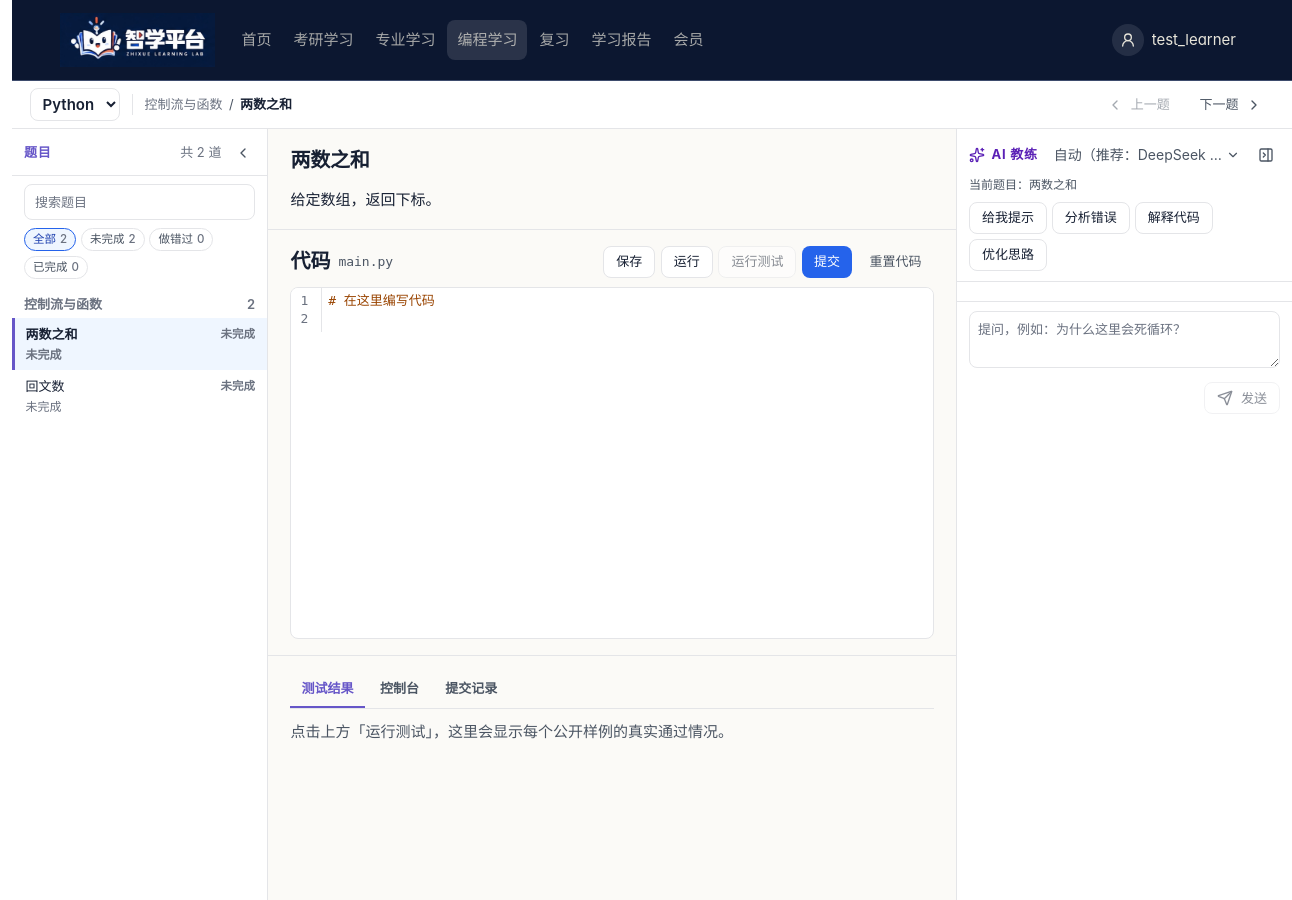
Test case: the AI 教练 › recovers after a failed request: the input works again and the question can be retried
This screenshot has width=1292, height=900.
Click the button "给我提示": click(1008, 218) [969,202,1047,234]
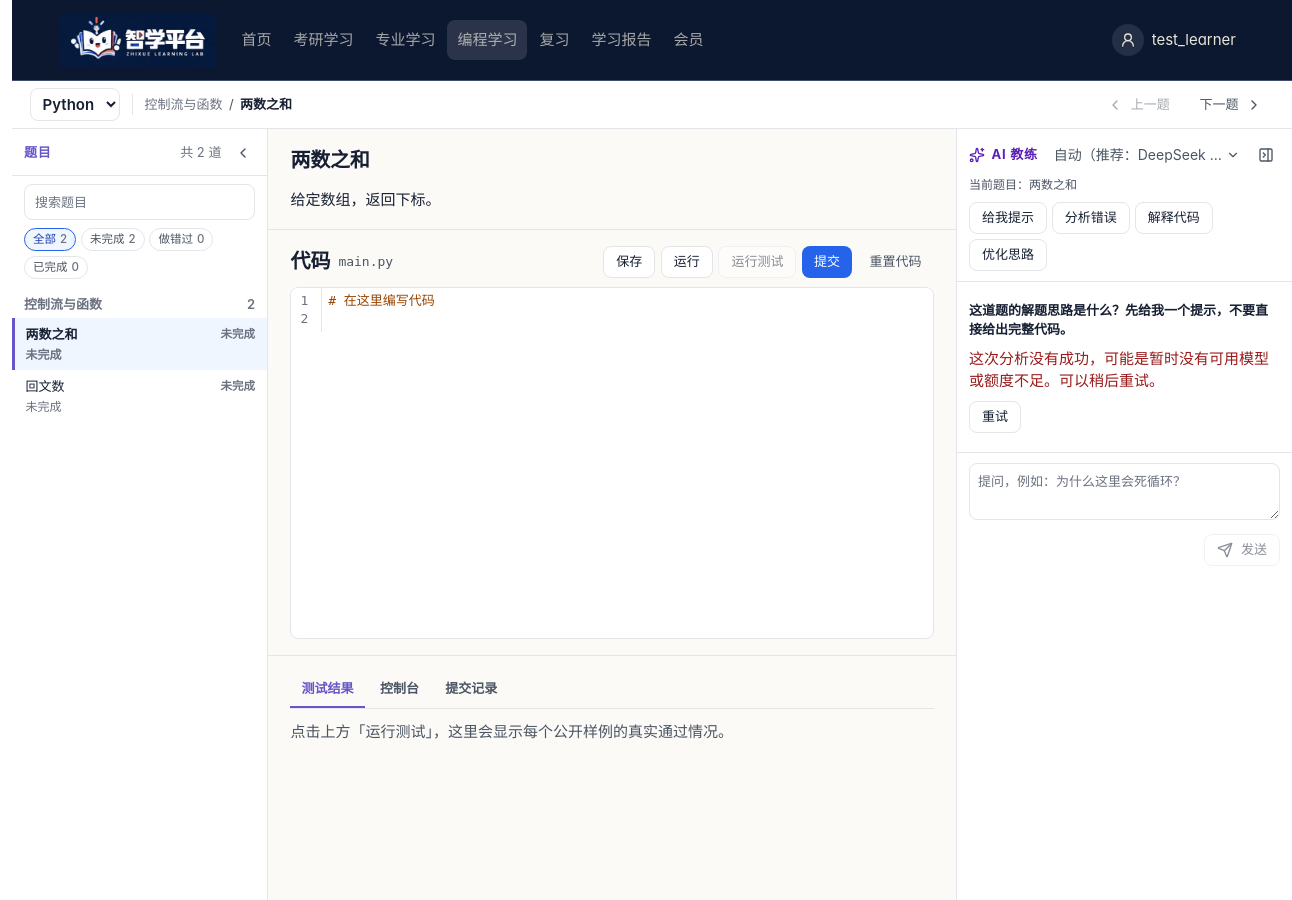
Check: the text box named "向 AI 教练提问" is enabled, box [969,462,1280,520]
Check: the text "这次分析没有成功，可能是暂时没有可用模型或额度不足。可以稍后重试。" is shown, box [969,348,1280,393]
Click the button "重试": click(995, 417) [969,401,1021,433]
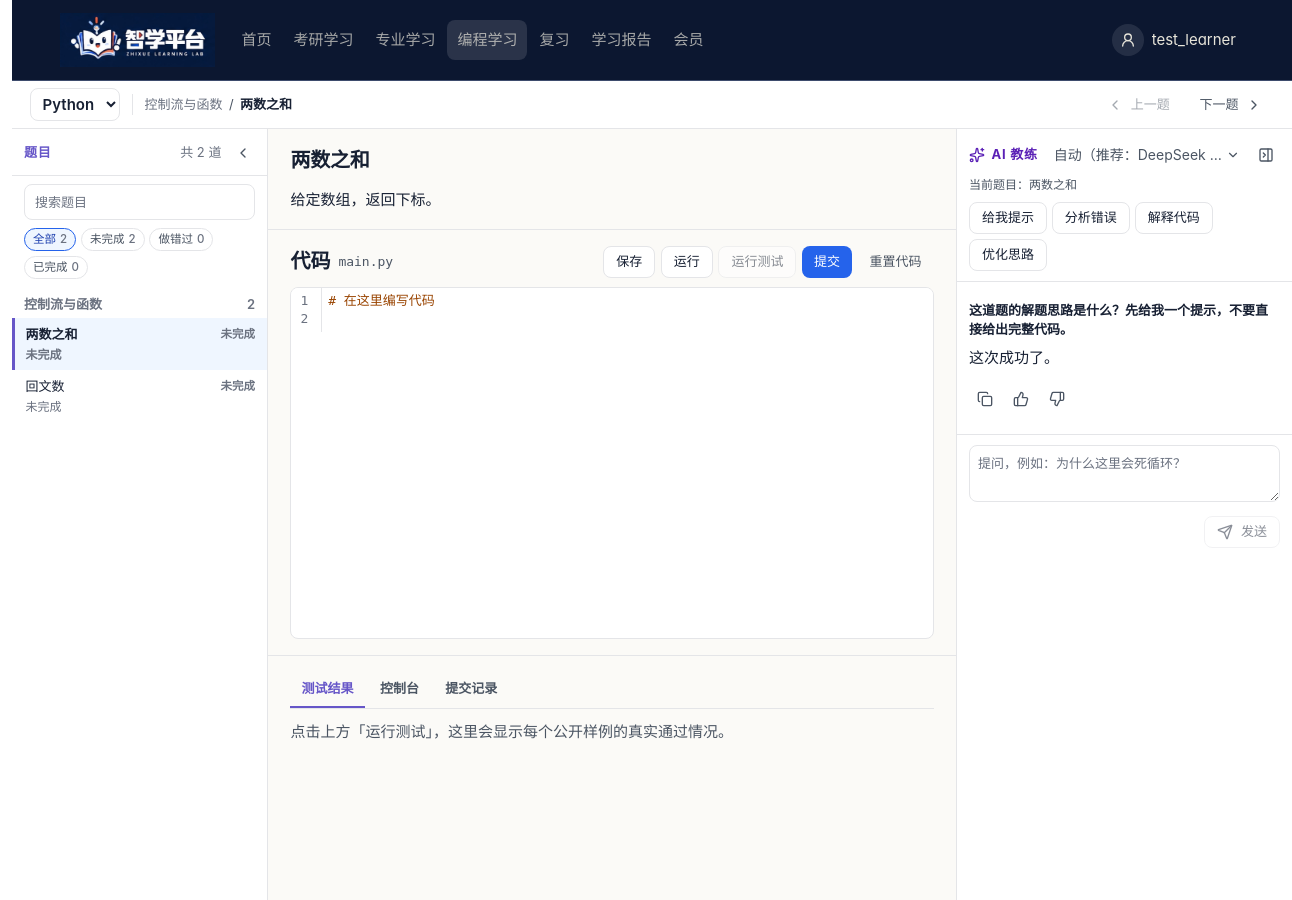
Check: the text "这次成功了。" is shown, box [969,348,1059,367]
